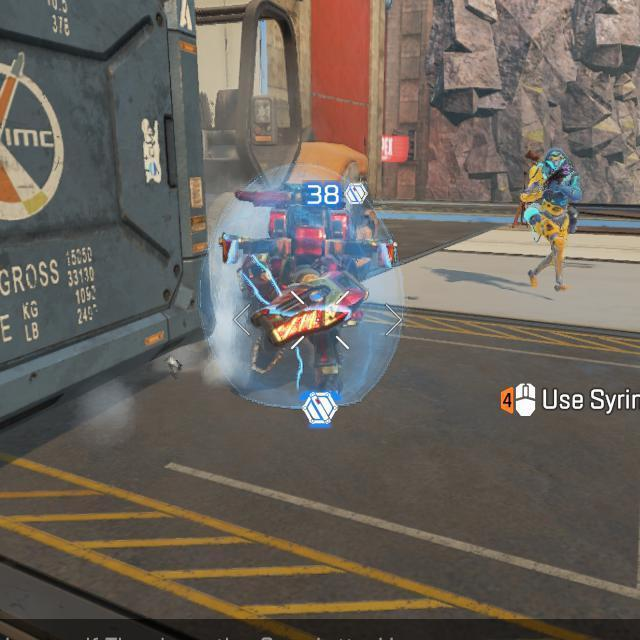avatar: (519, 149, 583, 291)
